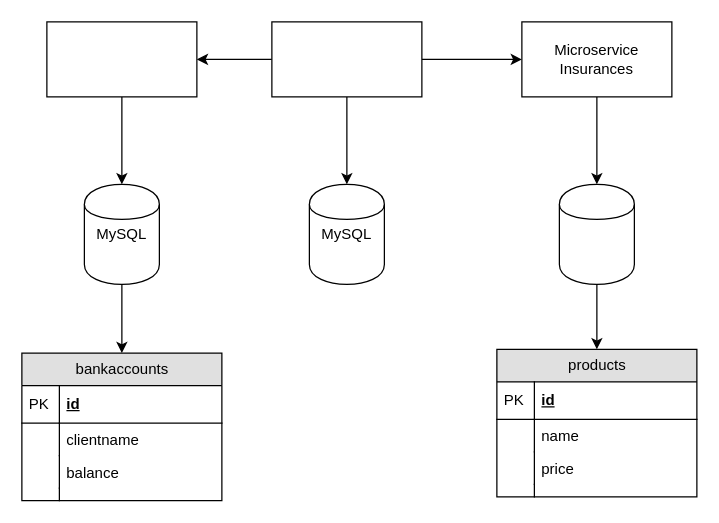
This 719x523 diagram has some shape labels left out. The centre of each missing label's shape, as x and y in pixels:
"Gateway Hipsters Bank" goes at point 346,59.
"Microservice Accounts" goes at point 121,59.
"MongoDB" goes at point 596,233.
